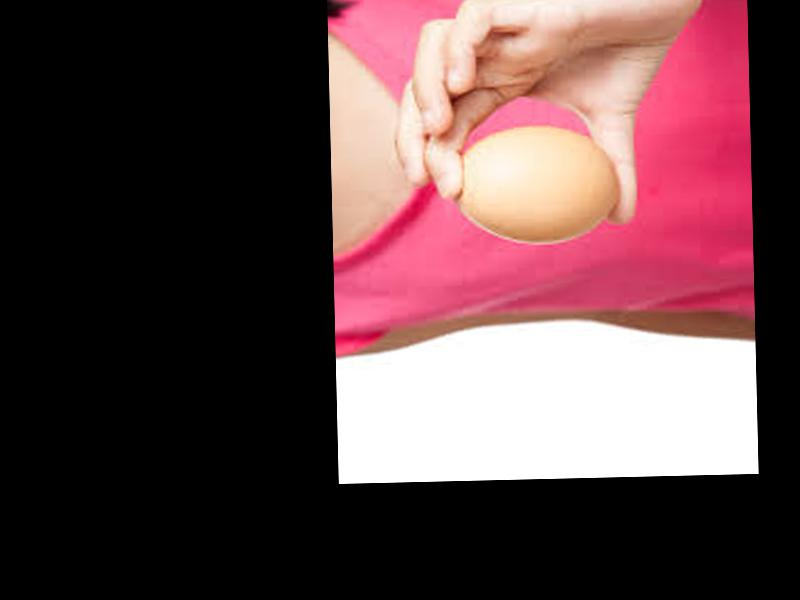Eggs: (449, 124, 617, 244)
